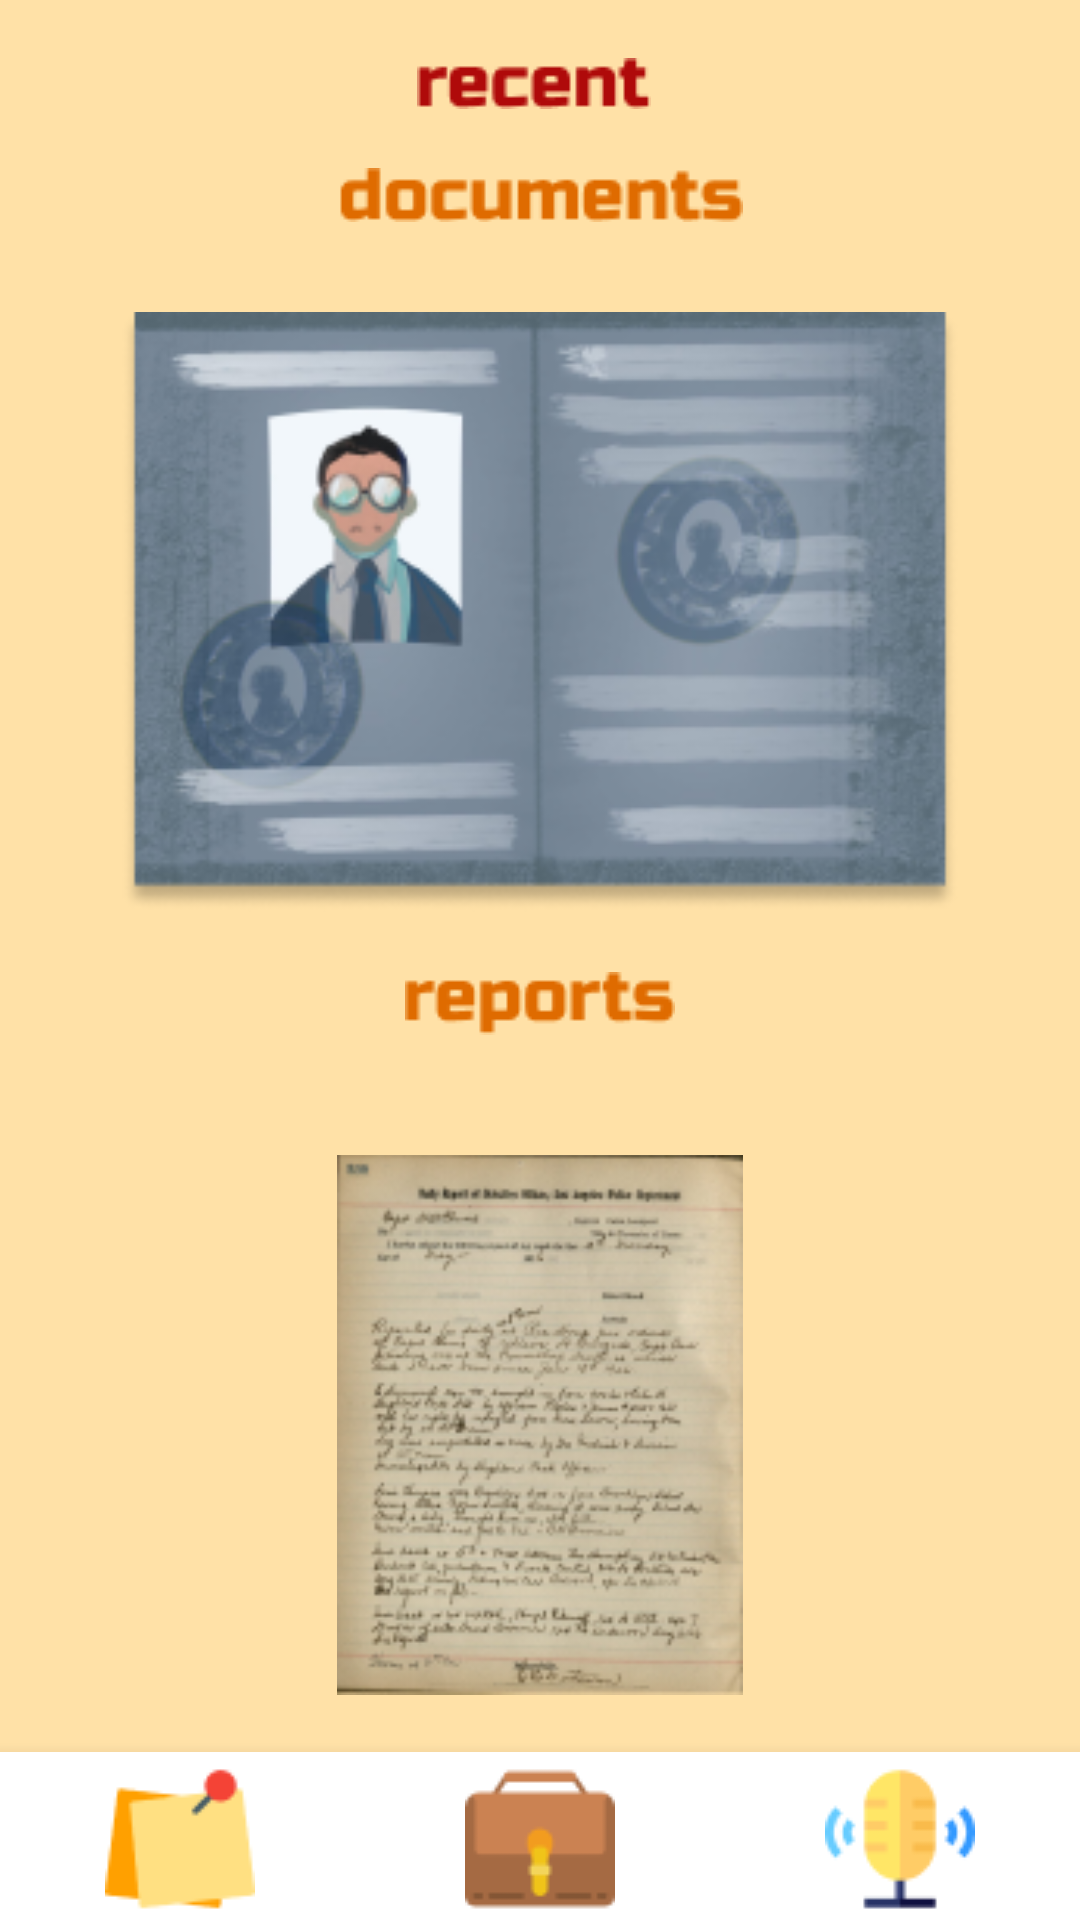

Point at icon controls on the screen. Image size 1080x1920, points as (x=x, y=y).
post: (x=180, y=1839)
voice control: (x=900, y=1839)
work: (x=540, y=1839)
